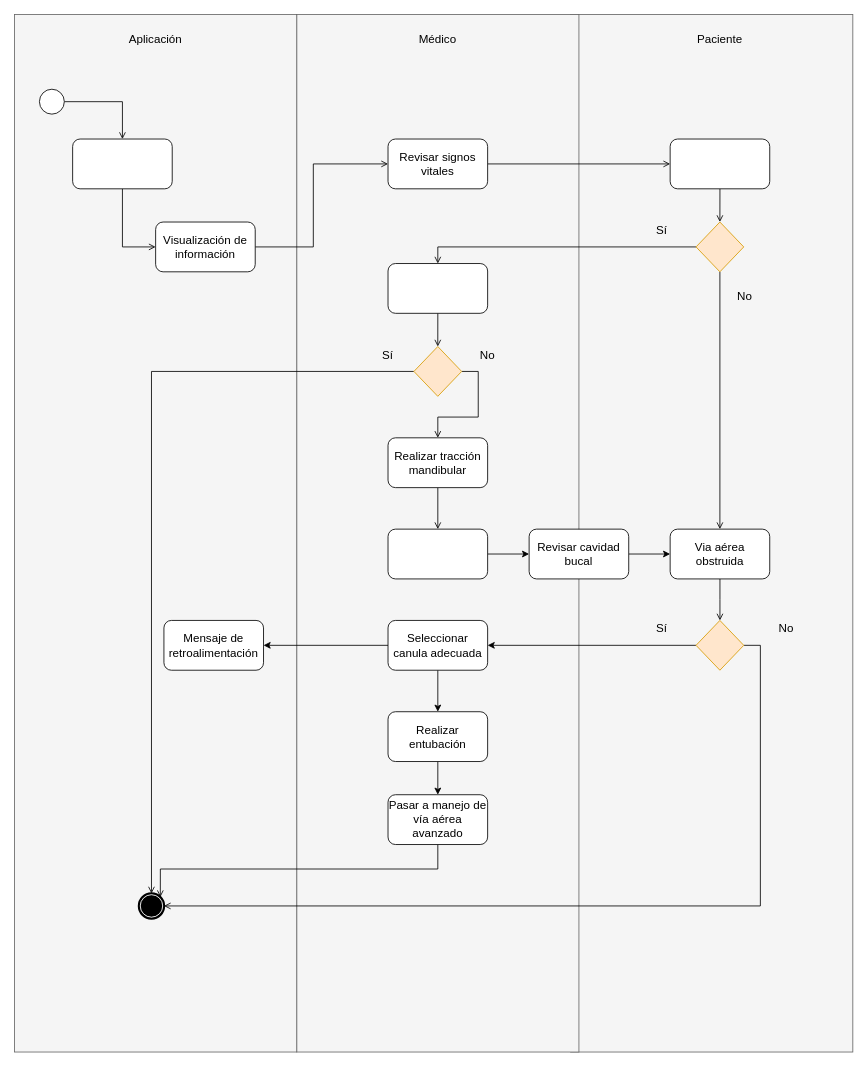
The diagram is 867 pixels wide and 1067 high, and some of its shapes have lost their labels. The centre of each missing label's shape, as x and y in pixels:
Consciente: (x=719, y=163)
Reconocimiento de la escena: (x=122, y=163)
Respuesta verbal: (x=437, y=288)
Revisar respiración: (x=437, y=553)
